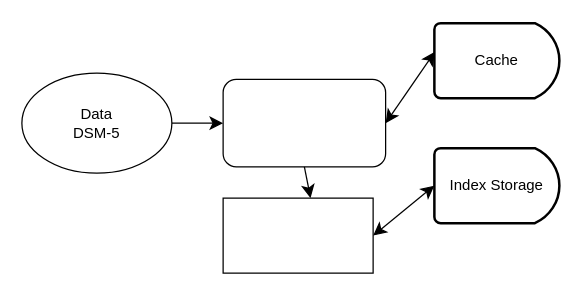
Some shapes in this 583 by 295 pixel diagram are drawn without their labels. Here are the shapes that lost their labels. From the top down, the centre of each, then its label:
pixel 304 122: Process ==> Nodes
pixel 297 235: Indexing
